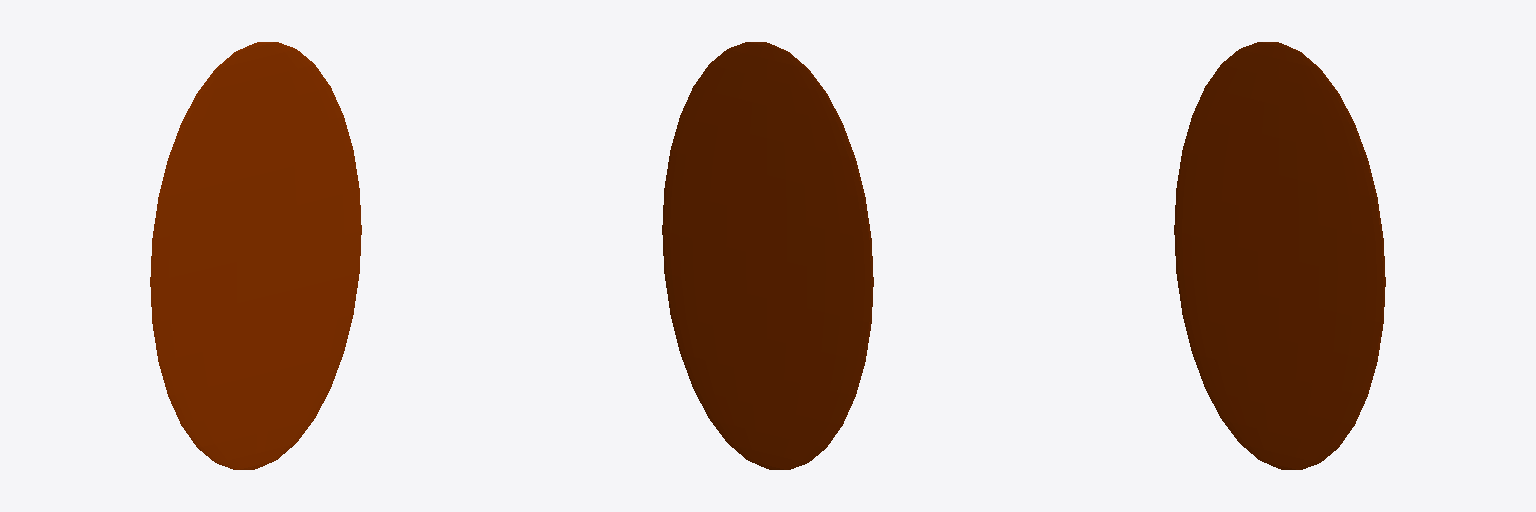
File: OrangeGate.obj
The picture shows the model from 3 angles: view 1: azimuth 30°, elevation 25°; view 2: azimuth 150°, elevation 25°; view 3: azimuth 330°, elevation 25°; orthographic projection.
Parts seen in each view (by area): view 1: Sphere, Sphere.001; view 2: Sphere, Sphere.001; view 3: Sphere, Sphere.001.
Part boxes in pixels (bbox=[...]): Sphere: bbox=[159, 42, 353, 469]; Sphere.001: bbox=[150, 42, 361, 469]; Sphere: bbox=[670, 42, 864, 469]; Sphere.001: bbox=[662, 42, 873, 469]; Sphere: bbox=[1182, 42, 1376, 469]; Sphere.001: bbox=[1174, 42, 1385, 469].
Size of the model in its own units: 1.04 by 2 by 0.02.